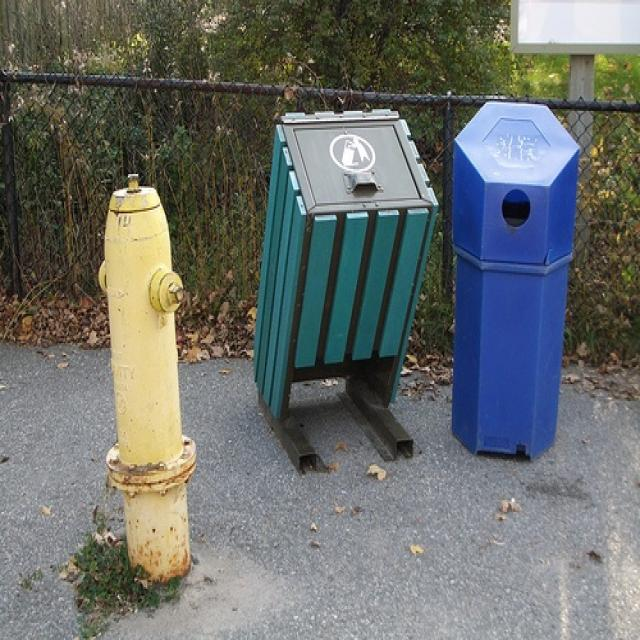ash bin: (246, 96, 439, 422)
fire_hydrant: (95, 172, 196, 584)
